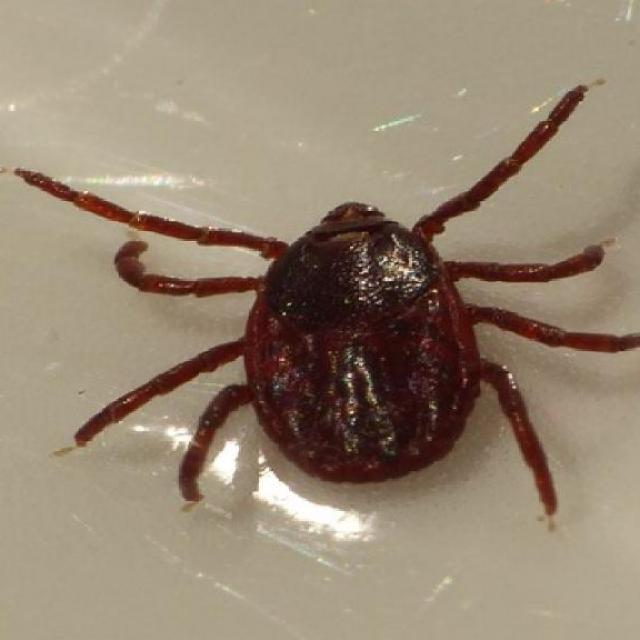Rhipicephalus Sanguineus-F: (15, 87, 640, 524)
